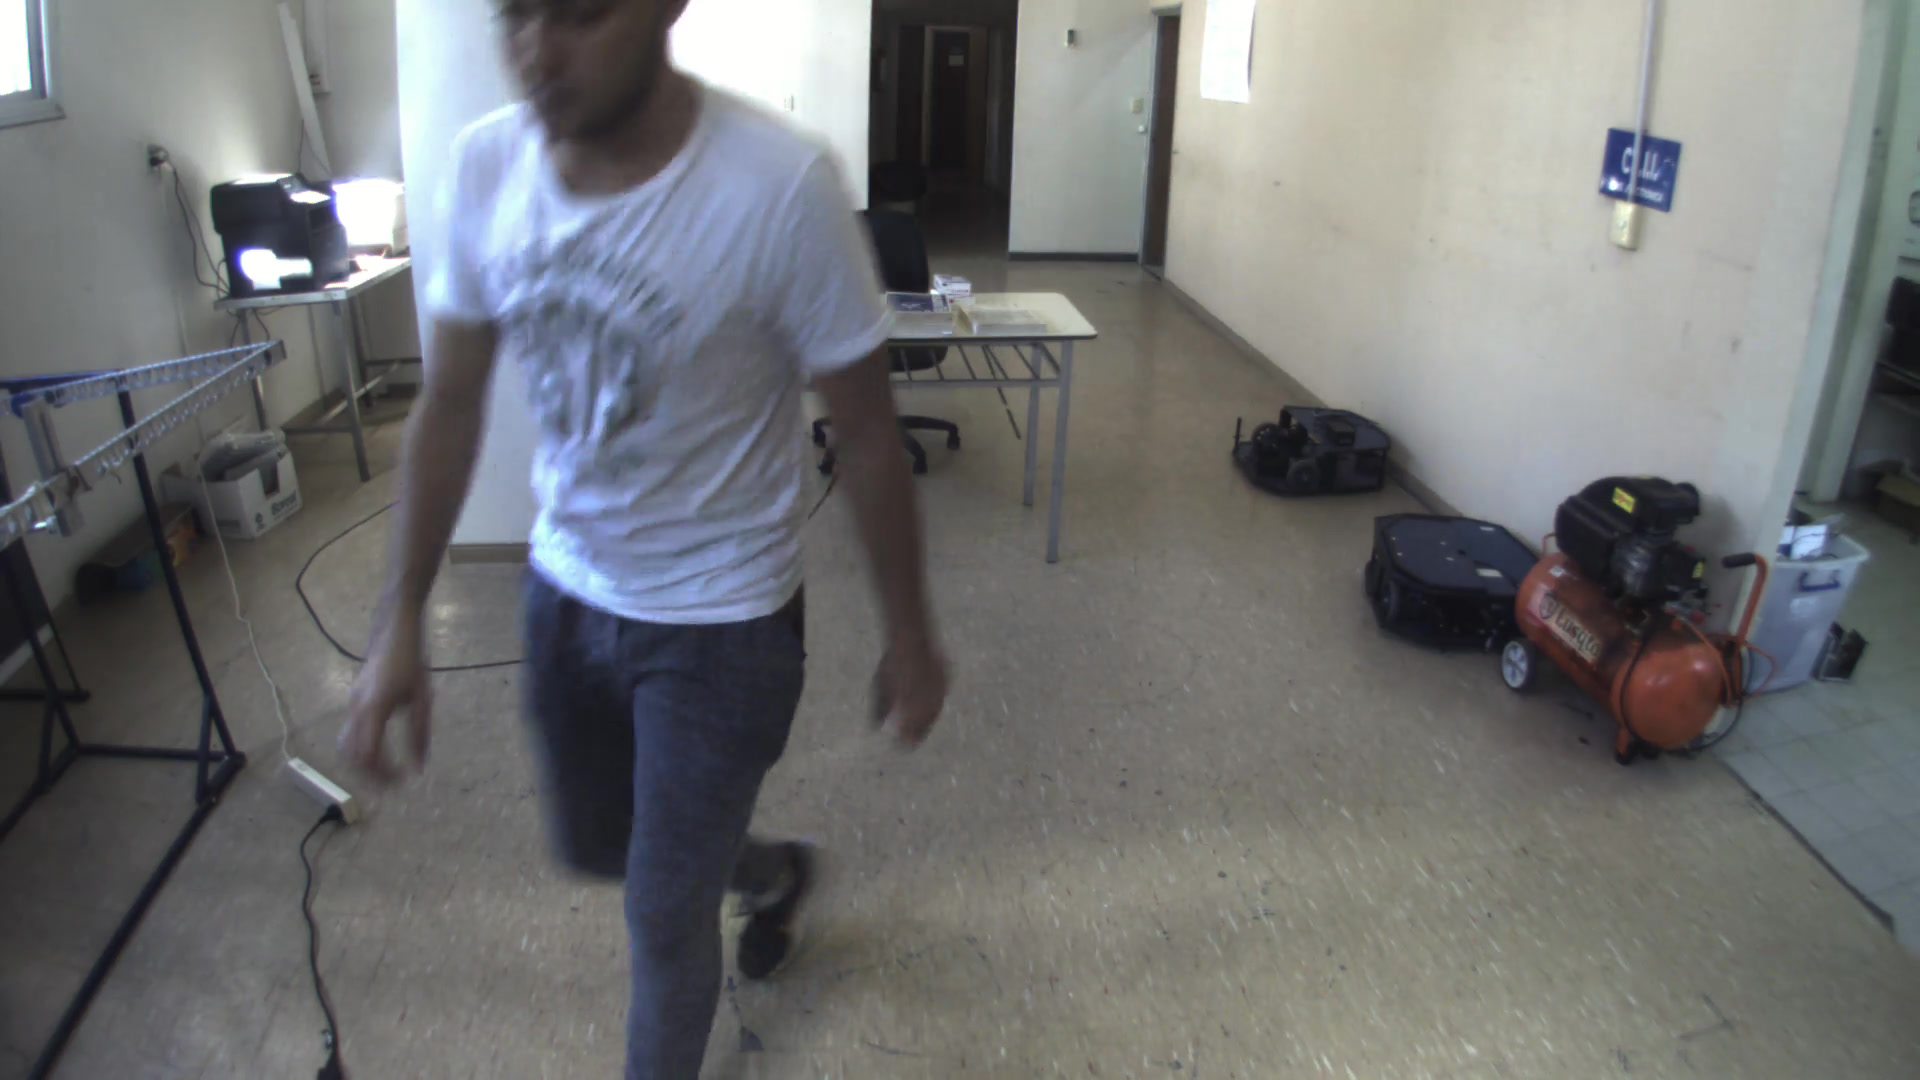hand: (328, 641, 442, 785), (865, 629, 959, 752)
